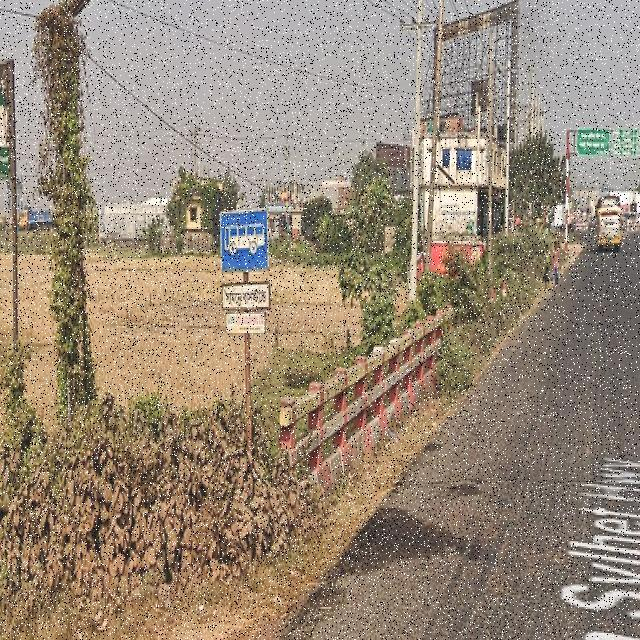Ahead-the-bus-station: (213, 204, 277, 352)
